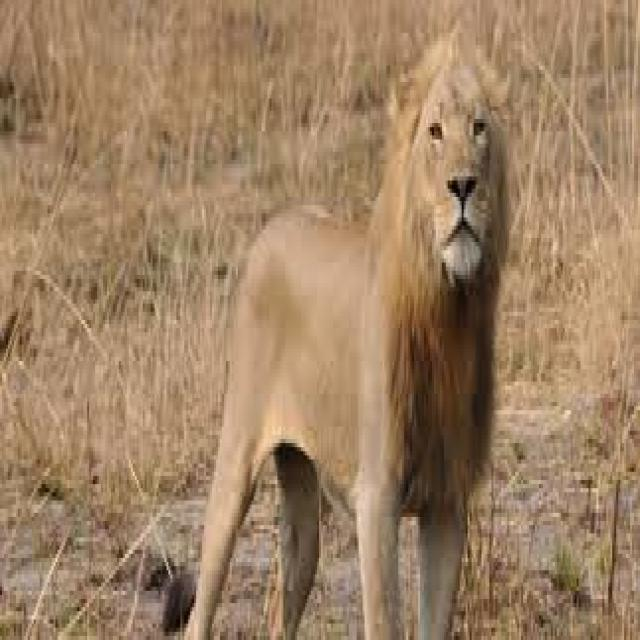Lion: (187, 32, 510, 636)
